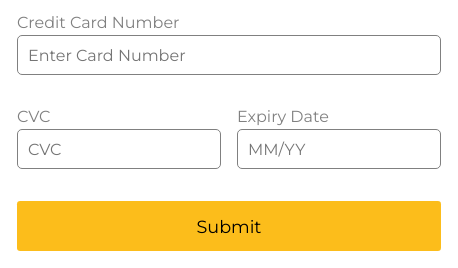
Test: Form › should format credit card number
Type "1234123412341234" into the field labelled "Credit Card Number" at (229, 55), box [17,35,441,75]
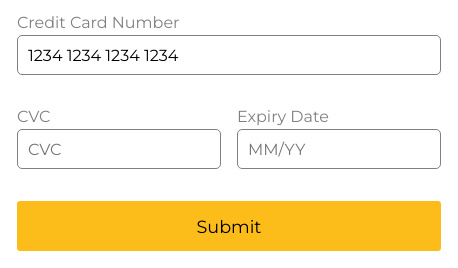
Result: the field labelled "Credit Card Number" holds "1234 1234 1234 1234" at [17,35,441,75]
